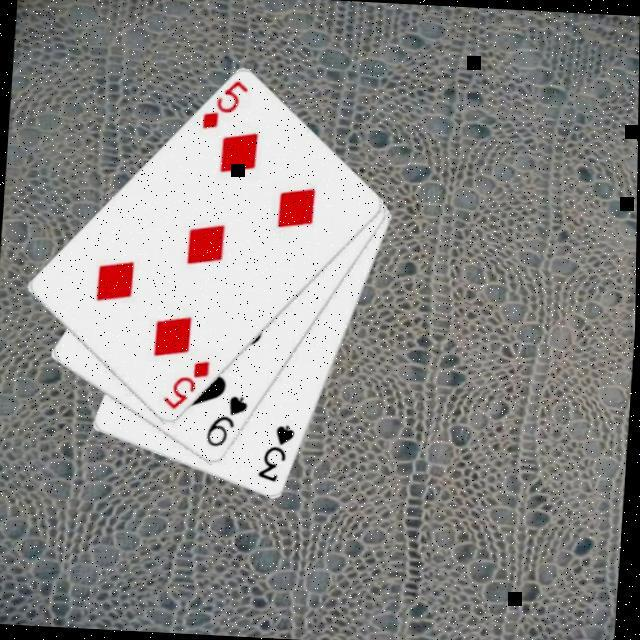3S: (256, 420, 300, 486)
5D: (160, 355, 216, 414), (200, 75, 253, 134)
9S: (204, 390, 254, 450)
